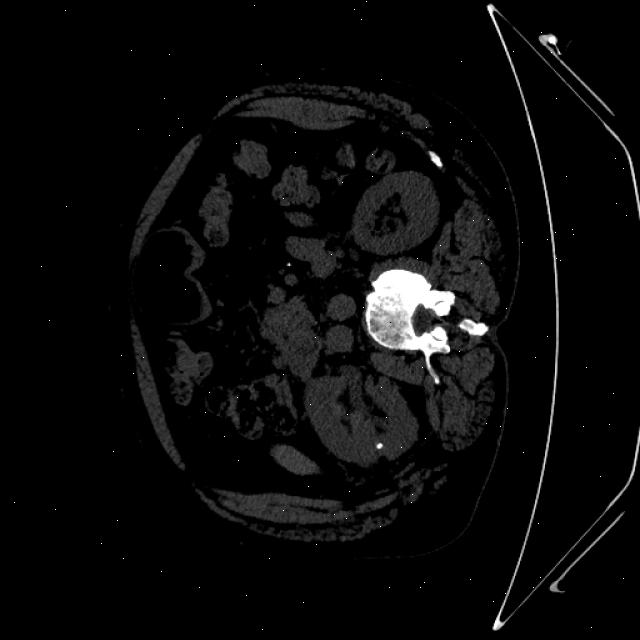kidneystone: (375, 441, 383, 449)
